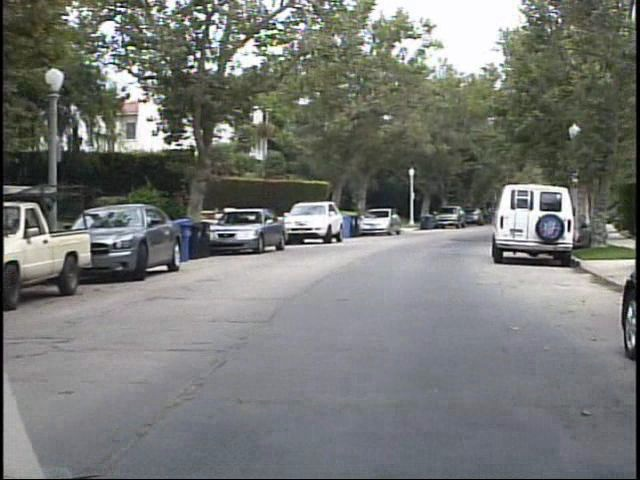person: (577, 221, 598, 254)
